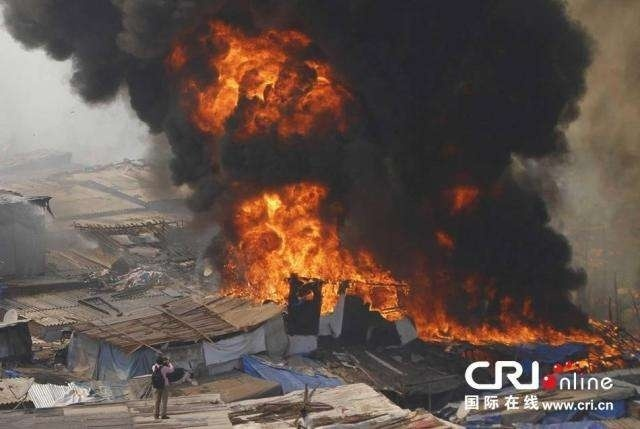fire: (206, 28, 562, 368)
